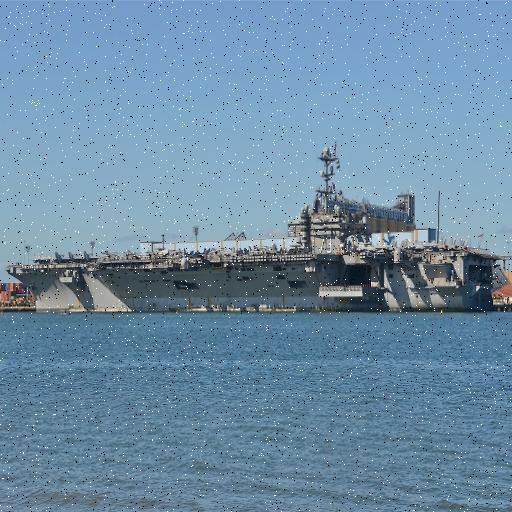Portanaves: (6, 146, 499, 318)
